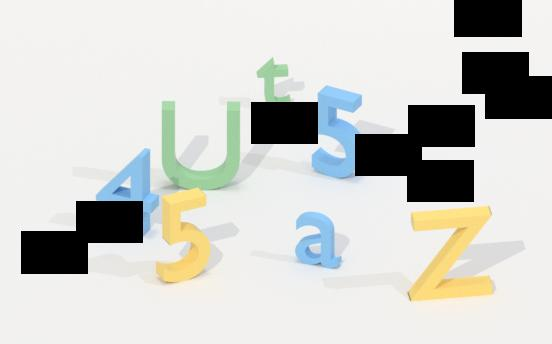4: (93, 150, 163, 238)
5: (145, 189, 215, 286), (309, 82, 371, 182)
a: (291, 209, 344, 273)
t: (253, 56, 297, 113)
u: (154, 97, 242, 194)
z: (400, 207, 499, 302)
